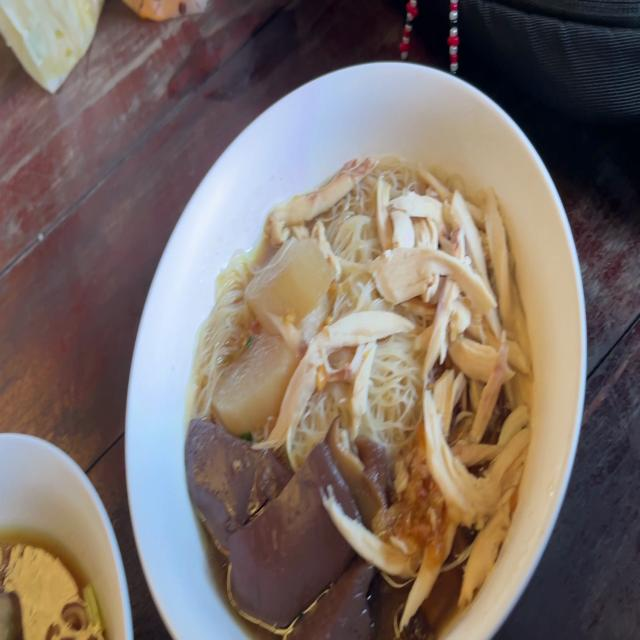noodle: (189, 447, 364, 624)
